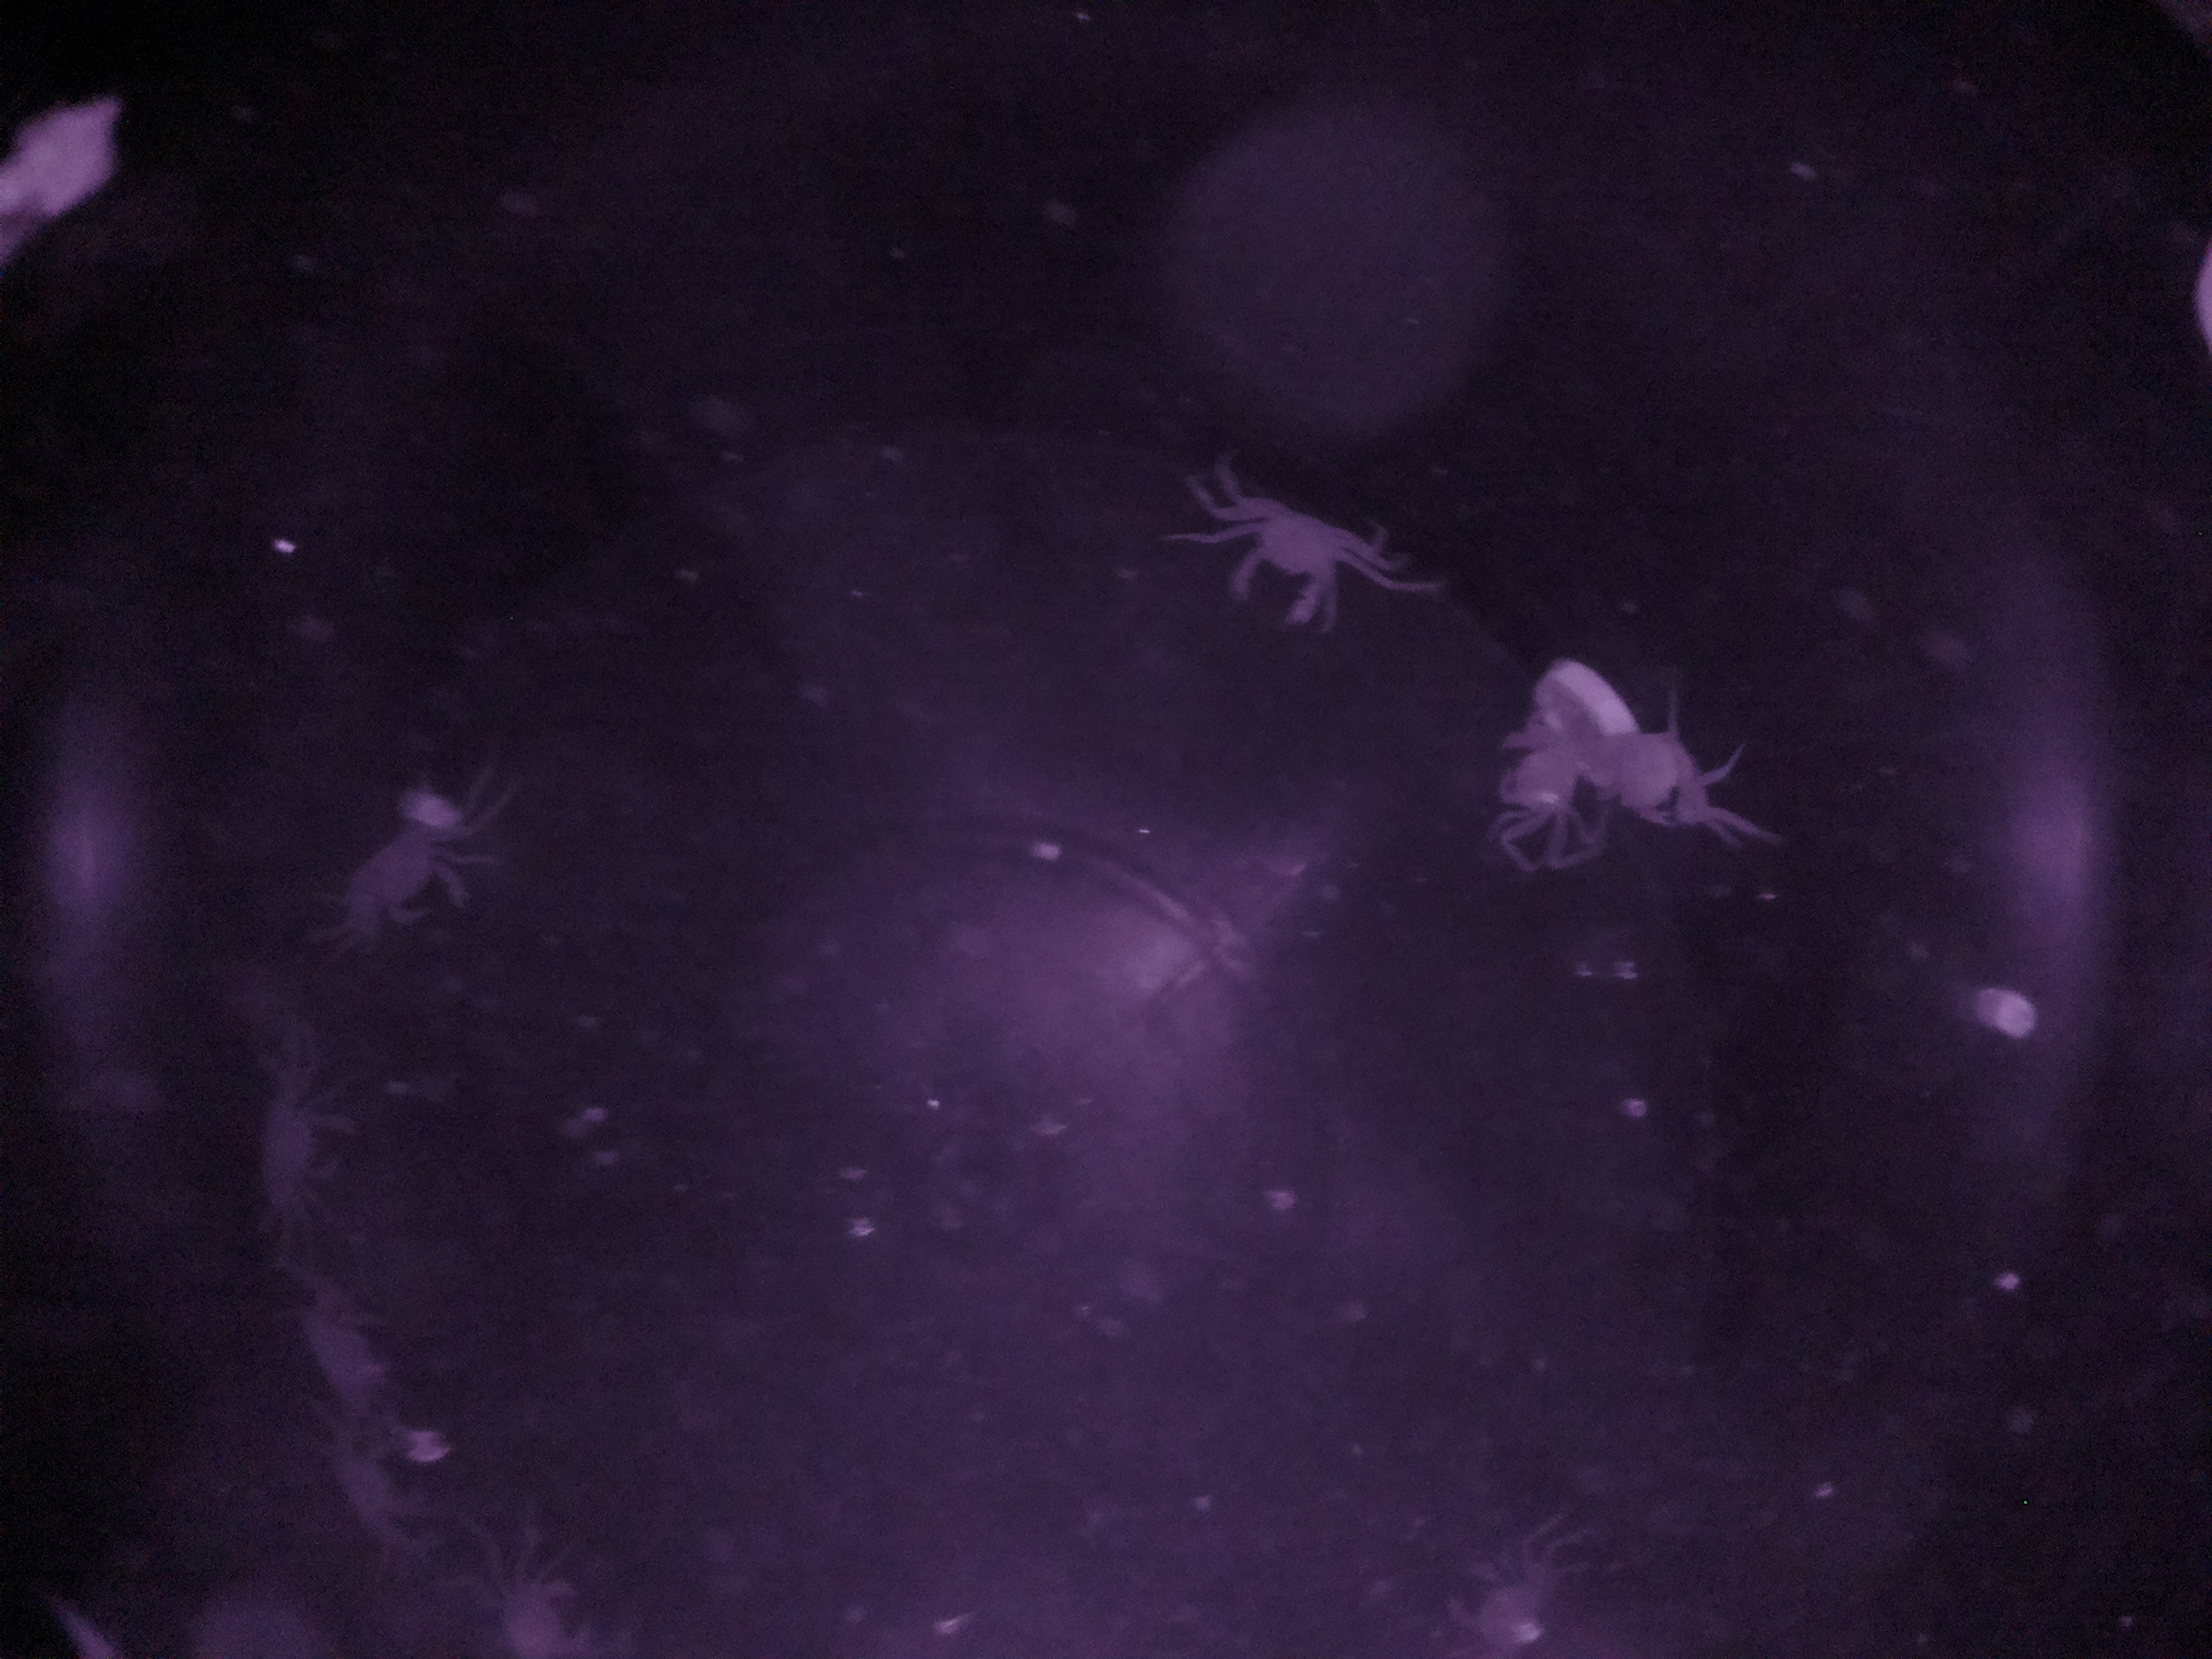Crab: (1191, 467, 1400, 645), (308, 796, 510, 964)
